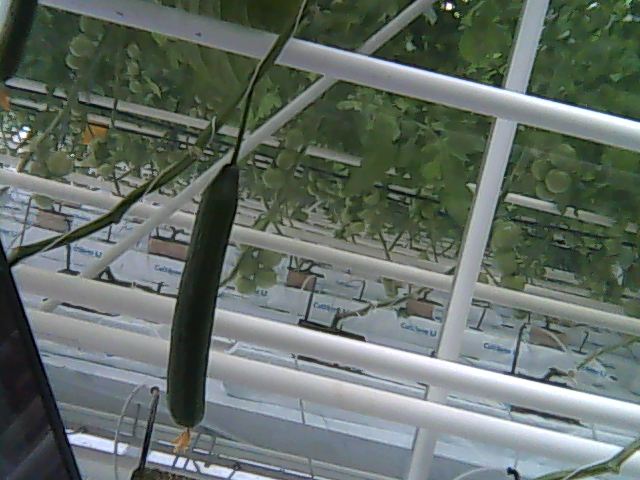concombre: (162, 153, 242, 459)
